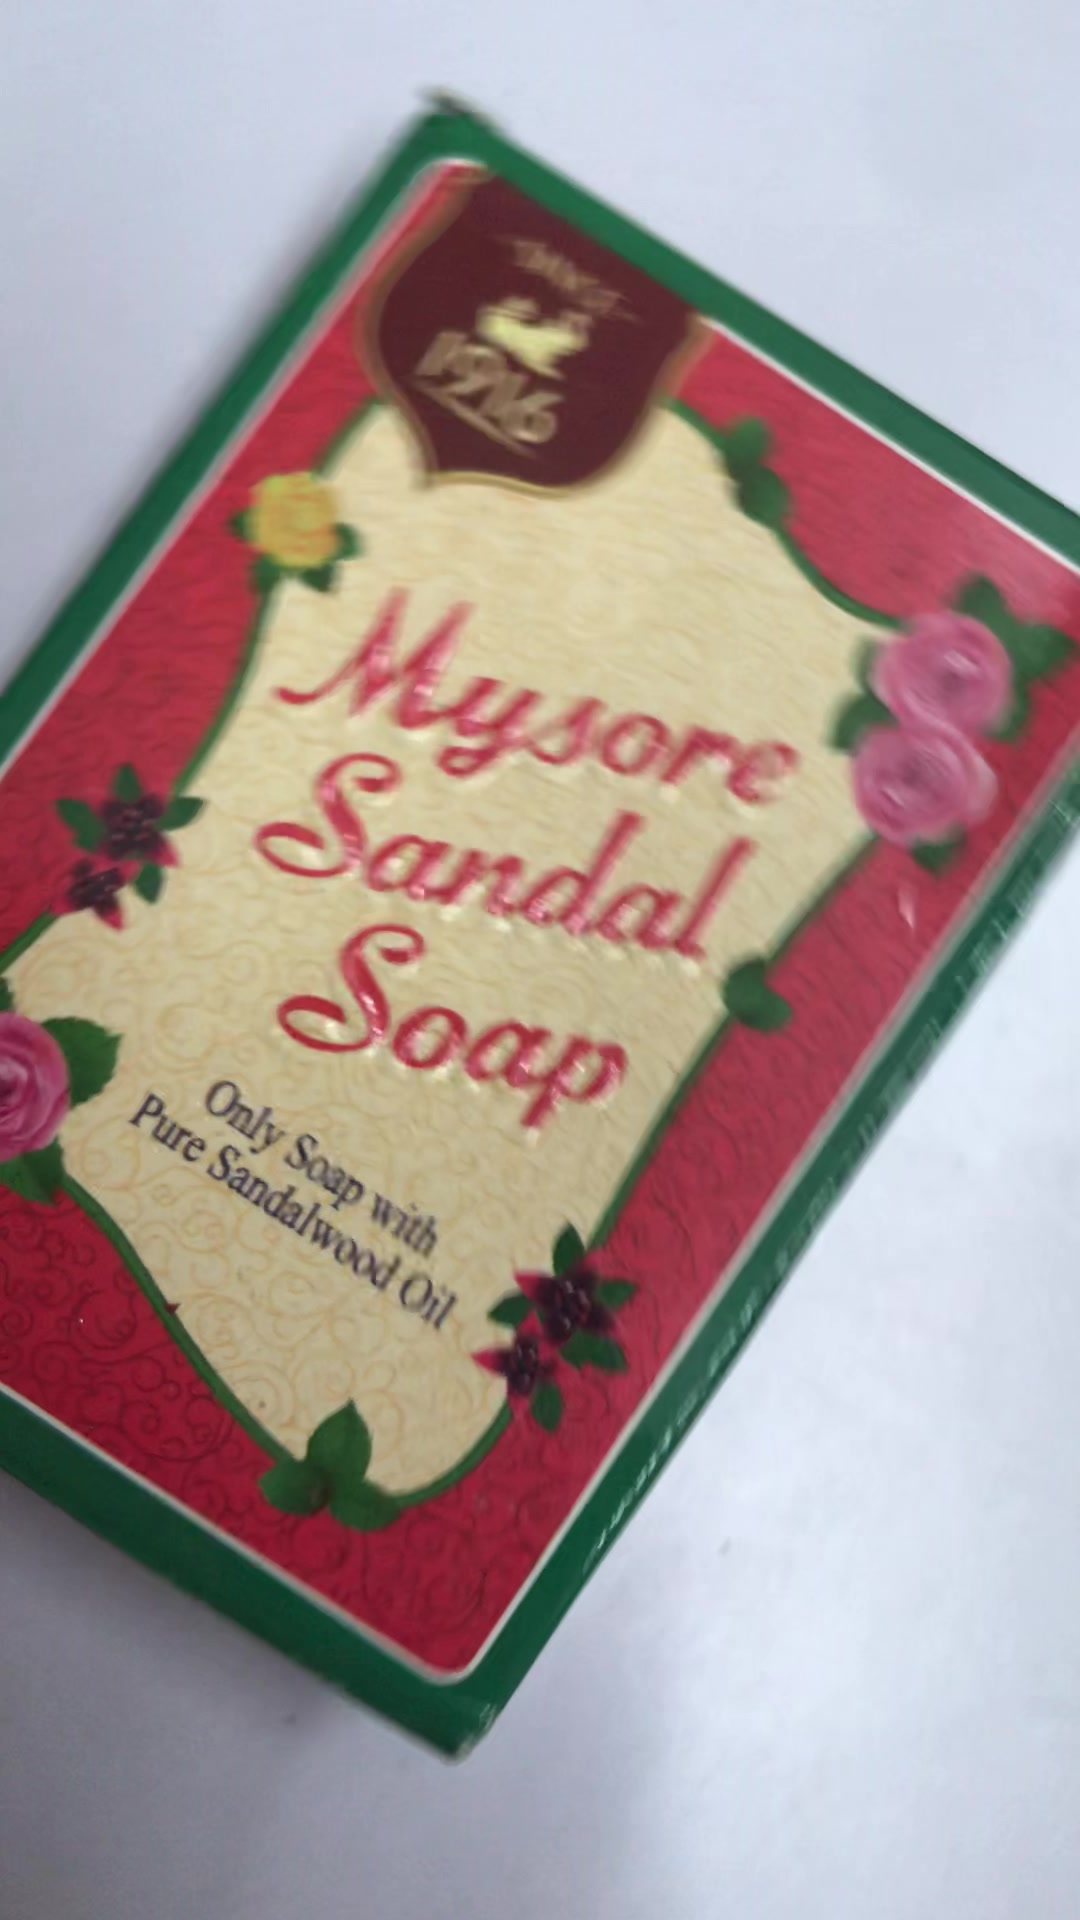mysore sandal soap: (1, 102, 1072, 1768)
